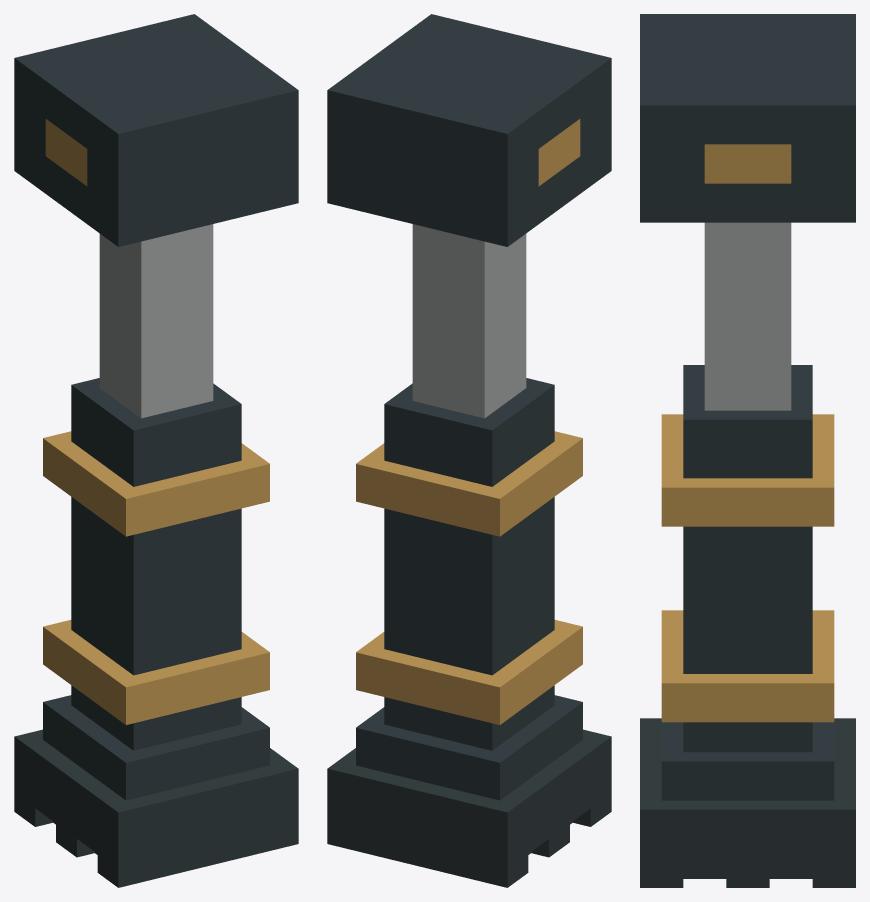
3 renders of one model, left to right at view 1: azimuth 30°, elevation 25°; view 2: azimuth 150°, elevation 25°; view 3: azimuth 270°, elevation 25°, orthographic. The views are drawn at different scales.
Visible parts, largest first — view 1: 四旋翼落地支脚; view 2: 四旋翼落地支脚; view 3: 四旋翼落地支脚.
Boxes of the visible parts, x1,y1,x2,y2 form: 四旋翼落地支脚: (14, 14, 298, 887); 四旋翼落地支脚: (327, 14, 611, 887); 四旋翼落地支脚: (640, 14, 855, 887).
Bounding box in the file's own units: 0.2 × 0.8 × 0.2.
4 materials, 4 textured.
